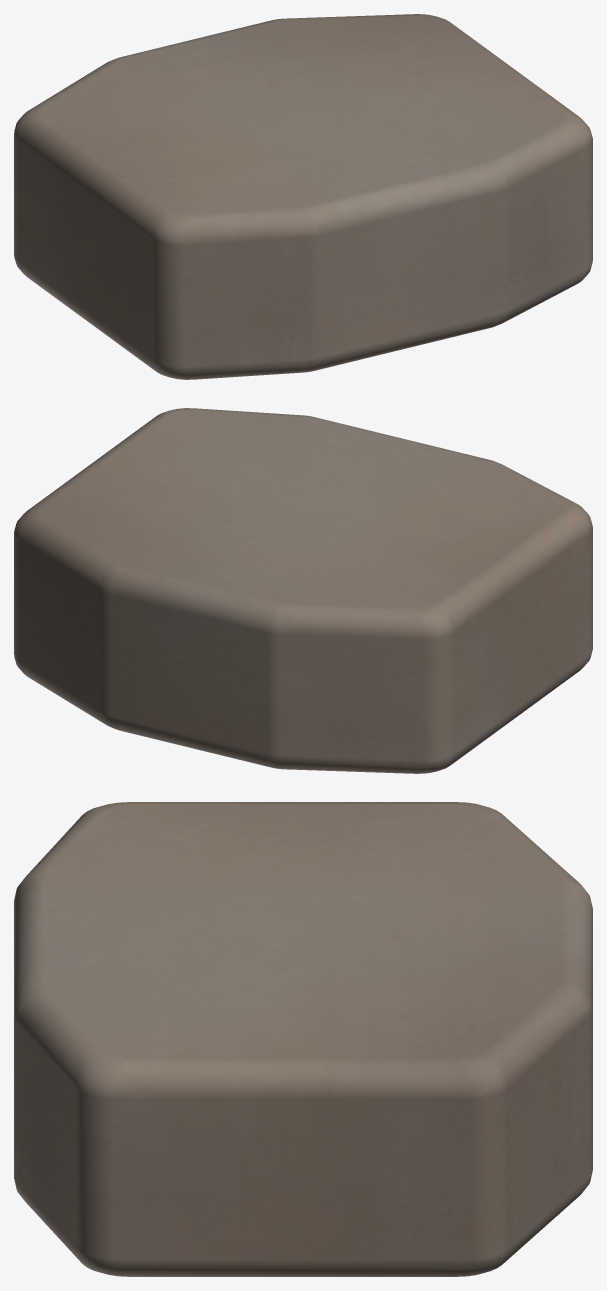
File: SM_S3_Commandement.glb
3 renders of one model, top to bottom at view 1: azimuth 30°, elevation 25°; view 2: azimuth 150°, elevation 25°; view 3: azimuth 270°, elevation 25°, orthographic. The views are drawn at different scales.
Bounding box in the file's own units: 2 × 0.7188 × 1.75.
1 material, 1 textured.
